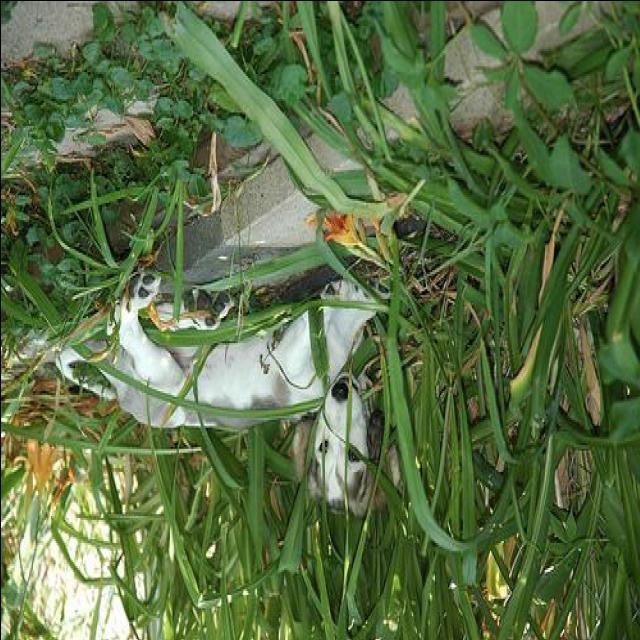saluki: (58, 262, 402, 512)
